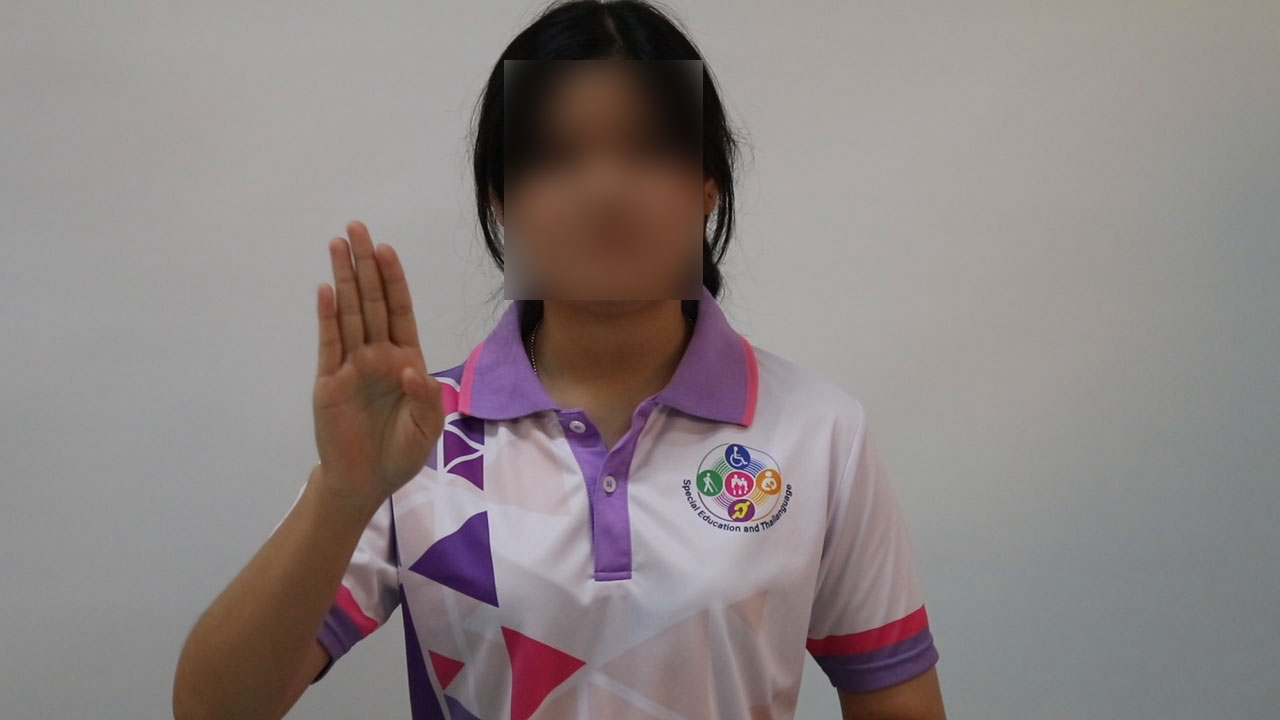bor: (297, 208, 455, 502)
